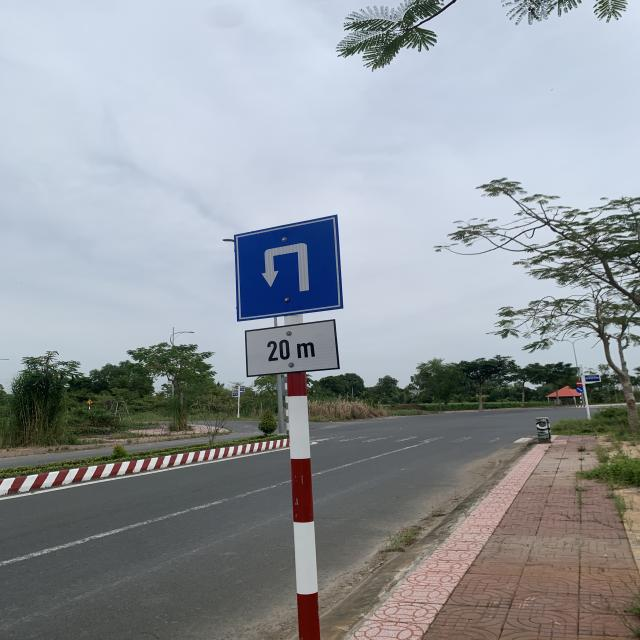Den_Giao_Thong: (230, 212, 351, 323)
